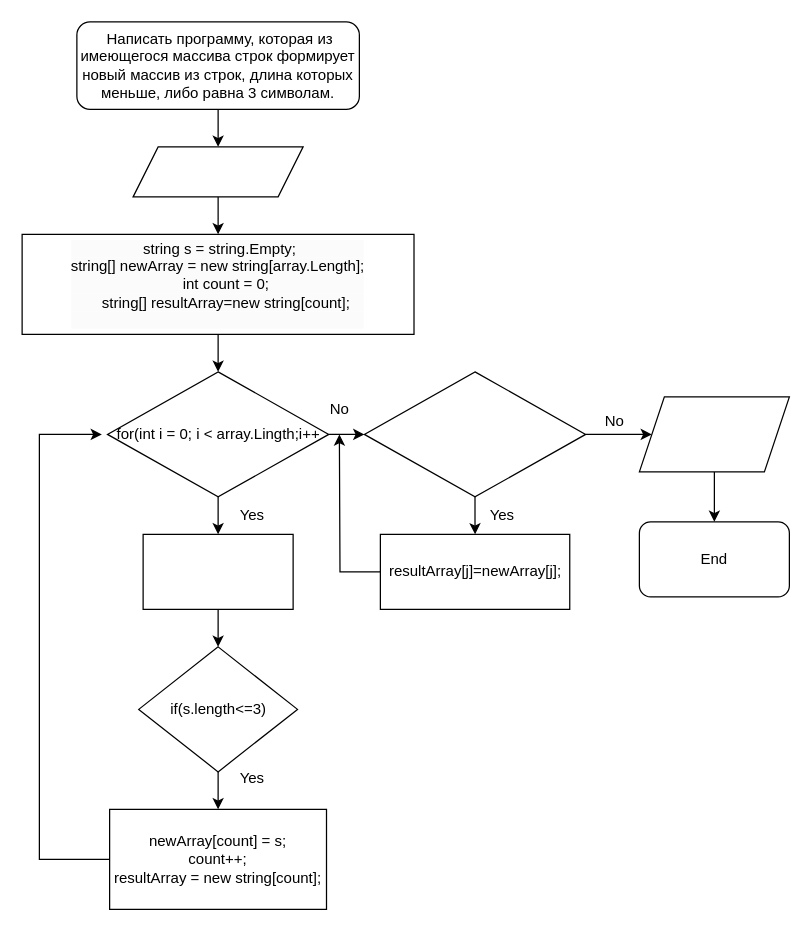
Image size: 811x931. Some labels were removed from this diagram. Here are the shapes that lost their labels. From the top down, the centre of each, then its label:
the point at 217,171: string[] array
the point at 474,434: for(int j = 0; j < count;j++)
the point at 713,434: resultArray
the point at 217,571: s = array[i]
